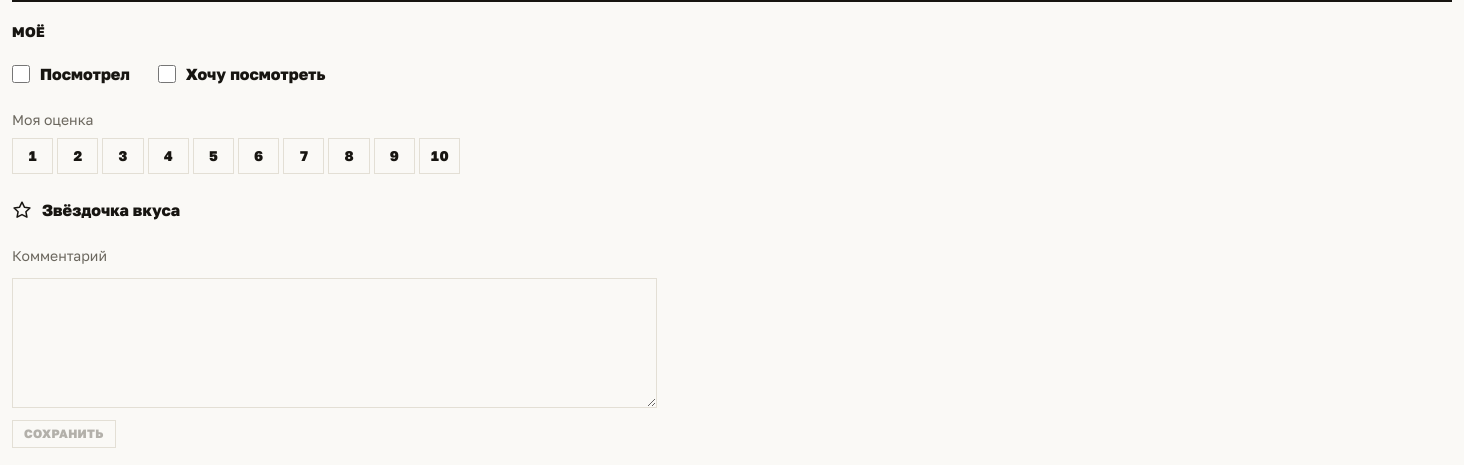
Test case: индикация сохранения и обработка ошибки › при отказе ошибка показана тем же красным текстом секции (критерий 17)
Type "первая заметка" into the text box. click: point(334, 343)
box: [12,278,657,408]
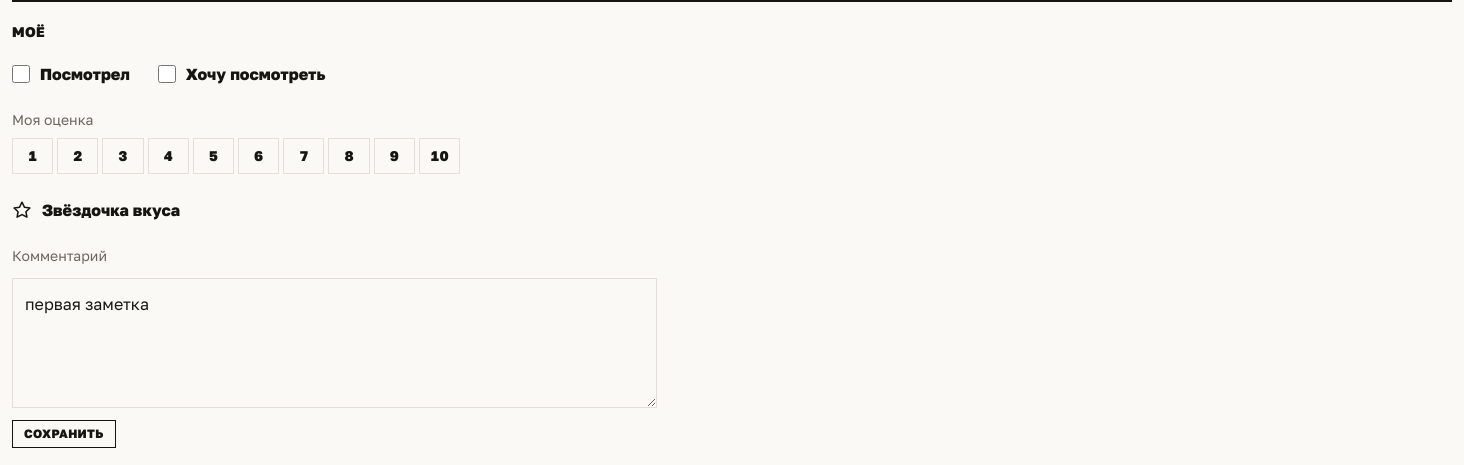
Click the button "Сохранить". click: point(64, 434)
box: [12,420,116,448]
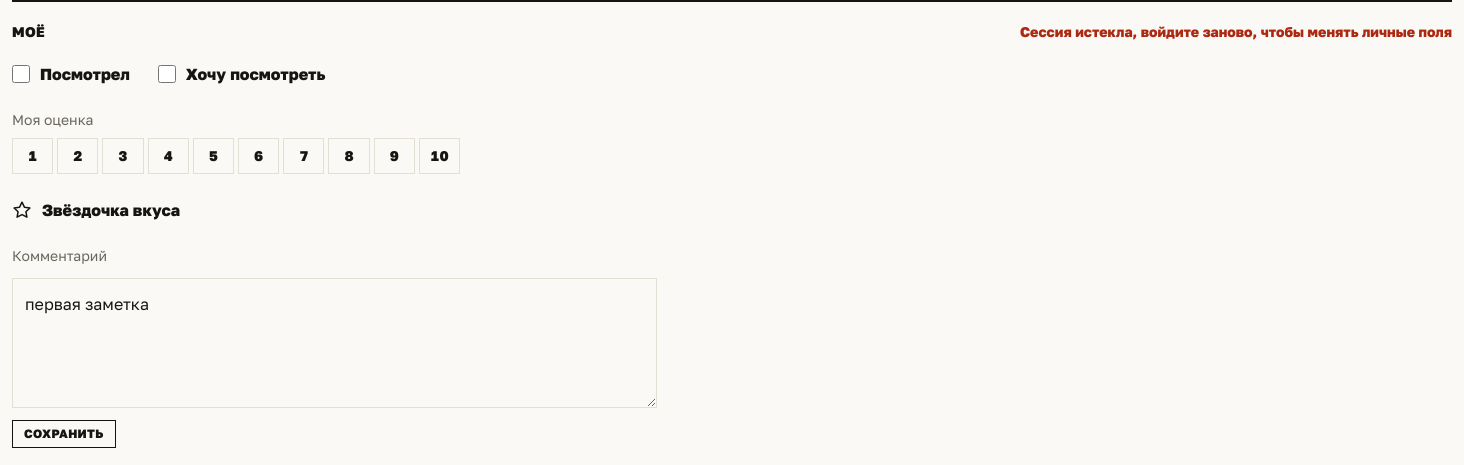
Now the text "Сессия истекла, войдите заново, чтобы менять личные поля" is shown, box [1020,23,1452,40]
